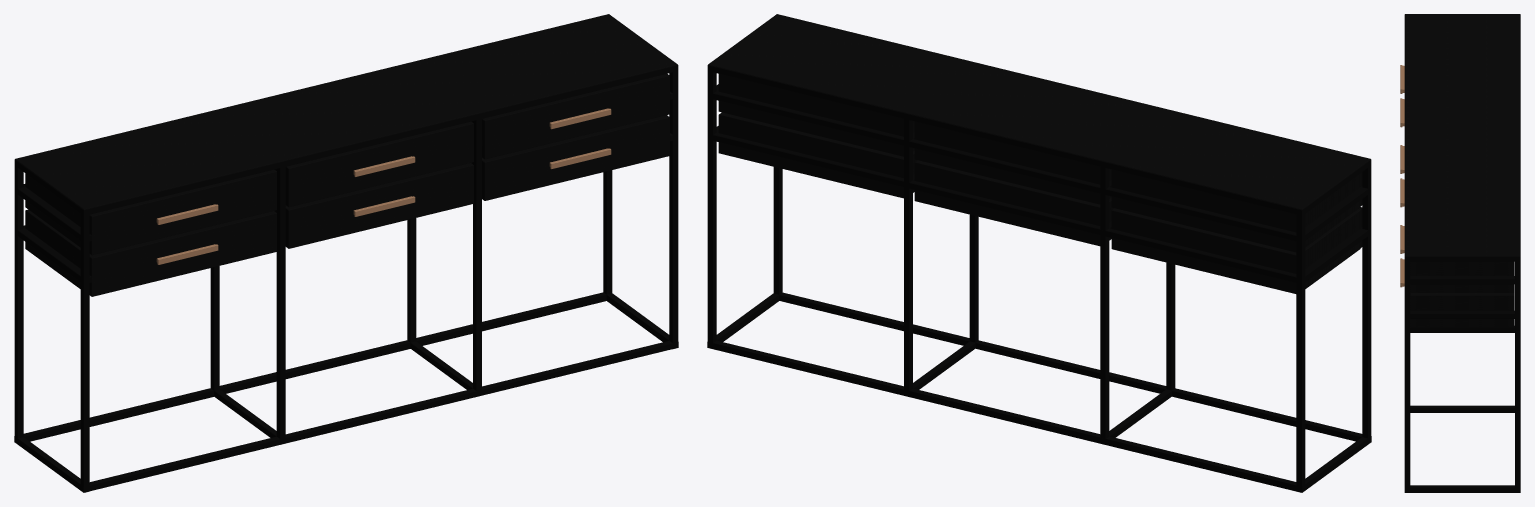
Rendered from cabinet-003.glb.
The picture shows the model from 3 angles, left to right: view 1: azimuth 30°, elevation 25°; view 2: azimuth 150°, elevation 25°; view 3: azimuth 270°, elevation 25°; orthographic projection. The views are drawn at different scales.
Parts seen in each view (by area): view 1: SketchUpModel_1, SketchUpModel_0, SketchUpModel_2; view 2: SketchUpModel_1, SketchUpModel_0; view 3: SketchUpModel_1, SketchUpModel_0, SketchUpModel_2.
Boxes of the visible parts, box(x1,y1,x2,y2) form: SketchUpModel_1: box(15, 14, 677, 296); SketchUpModel_0: box(14, 65, 678, 492); SketchUpModel_2: box(156, 108, 611, 264); SketchUpModel_1: box(708, 14, 1370, 293); SketchUpModel_0: box(707, 65, 1371, 492); SketchUpModel_1: box(1405, 14, 1520, 327); SketchUpModel_0: box(1404, 14, 1520, 492); SketchUpModel_2: box(1400, 65, 1404, 287).
Bounding box in the file's own units: 2.01 × 0.9162 × 0.4216.
3 materials, 2 textured.
